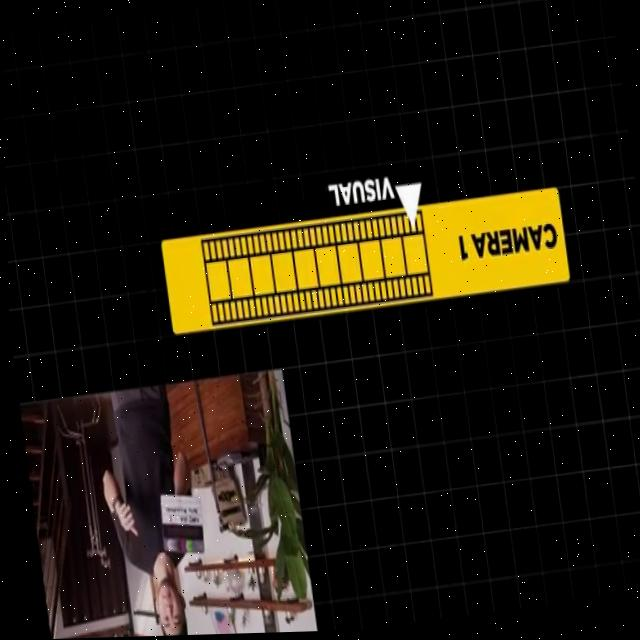Clapperboard: (159, 493, 204, 554)
